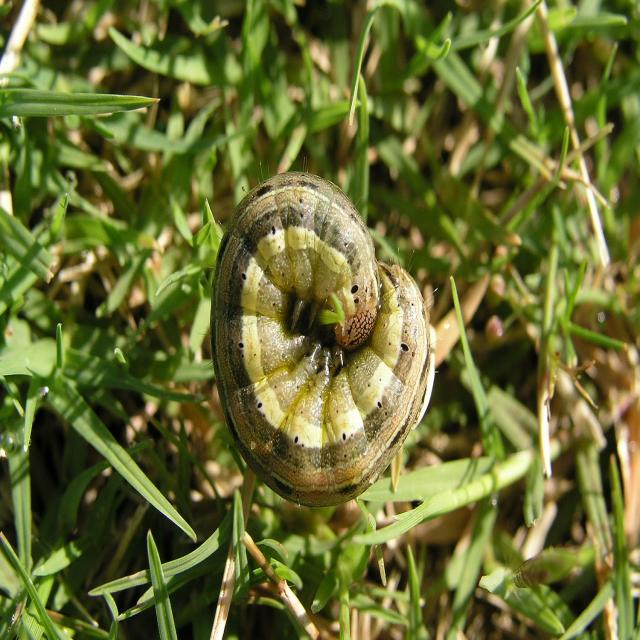armyworm: (192, 132, 440, 520)
